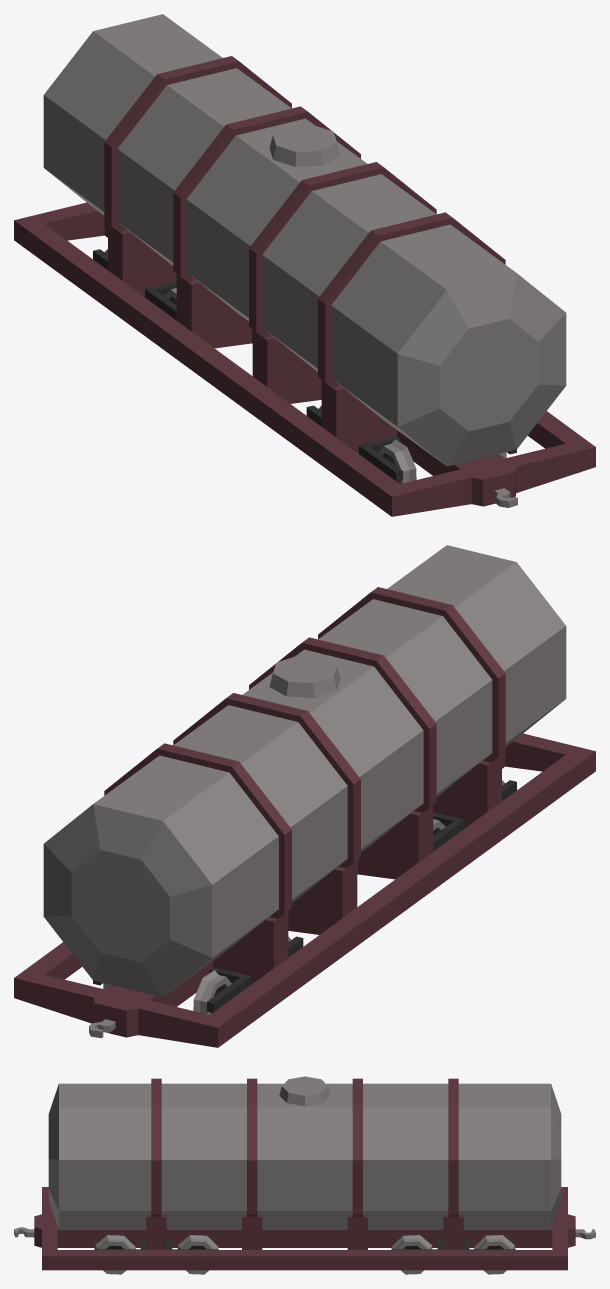
File: train-wagon-oil.fbx
3 renders of one model, top to bottom at view 1: azimuth 30°, elevation 25°; view 2: azimuth 150°, elevation 25°; view 3: azimuth 270°, elevation 25°, orthographic. The views are drawn at different scales.
Visible parts, largest first — view 1: train-wagon-oil-base, train-wagon-oil-wheel-front_F, train-wagon-oil-wheel_F1, train-wagon-oil-wheel-front_B; view 2: train-wagon-oil-base, train-wagon-oil-wheel-front_B, train-wagon-oil-wheel_B2, train-wagon-oil-wheel-front_F; view 3: train-wagon-oil-base, train-wagon-oil-wheel_F1, train-wagon-oil-wheel_B2, train-wagon-oil-wheel_F2, train-wagon-oil-wheel_B1.
Part boxes in pixels (<box>): train-wagon-oil-base: <box>14,14,595,516</box>; train-wagon-oil-wheel-front_F: <box>306,405,516,481</box>; train-wagon-oil-wheel_F1: <box>378,439,506,483</box>; train-wagon-oil-wheel-front_B: <box>93,249,176,320</box>; train-wagon-oil-base: <box>14,545,595,1047</box>; train-wagon-oil-wheel-front_B: <box>93,936,303,1012</box>; train-wagon-oil-wheel_B2: <box>103,970,231,1014</box>; train-wagon-oil-wheel-front_F: <box>433,780,516,851</box>; train-wagon-oil-base: <box>14,1076,595,1270</box>; train-wagon-oil-wheel_F1: <box>94,1235,135,1274</box>; train-wagon-oil-wheel_B2: <box>474,1235,515,1274</box>; train-wagon-oil-wheel_F2: <box>177,1235,218,1274</box>; train-wagon-oil-wheel_B1: <box>391,1235,432,1274</box>.
Bounding box in the file's own units: 3.2 × 3.73 × 11.36.
